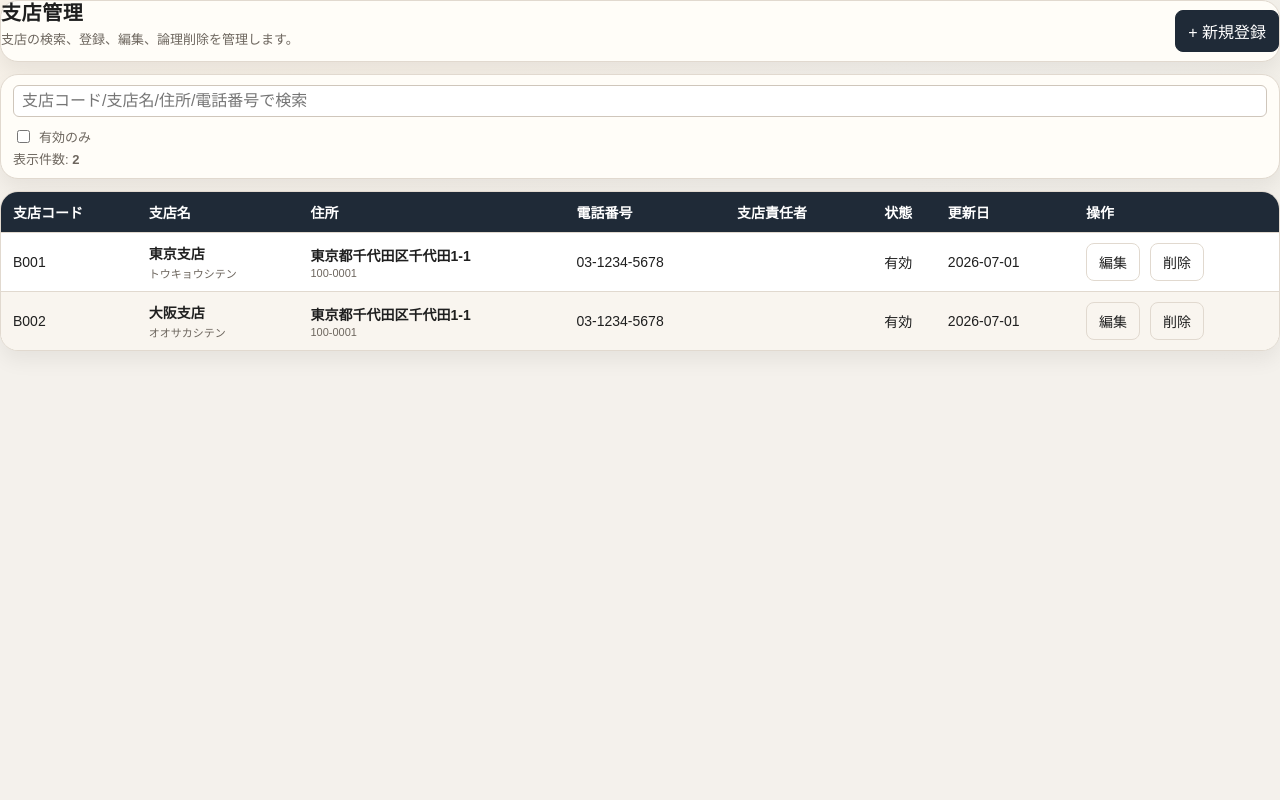
Test: 支店管理画面 › 支店論理削除ができる
Check: the text "東京支店" is shown, box left=149, top=246, right=205, bottom=262
Click the button "削除" in the row of "B001" at (1177, 262), box left=1150, top=243, right=1204, bottom=281
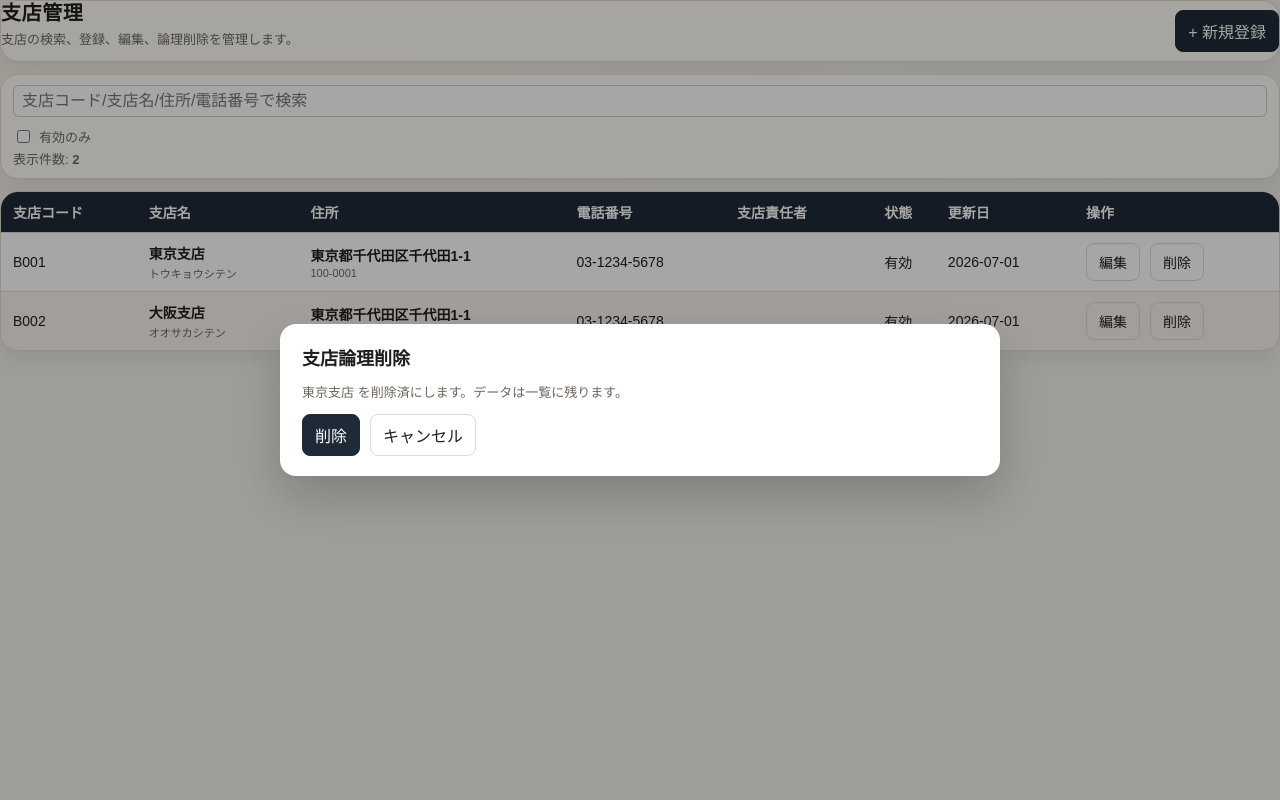
Check: the heading "支店論理削除" is shown, box left=302, top=349, right=410, bottom=369
Click the button "削除" at (331, 435), box left=302, top=414, right=360, bottom=456
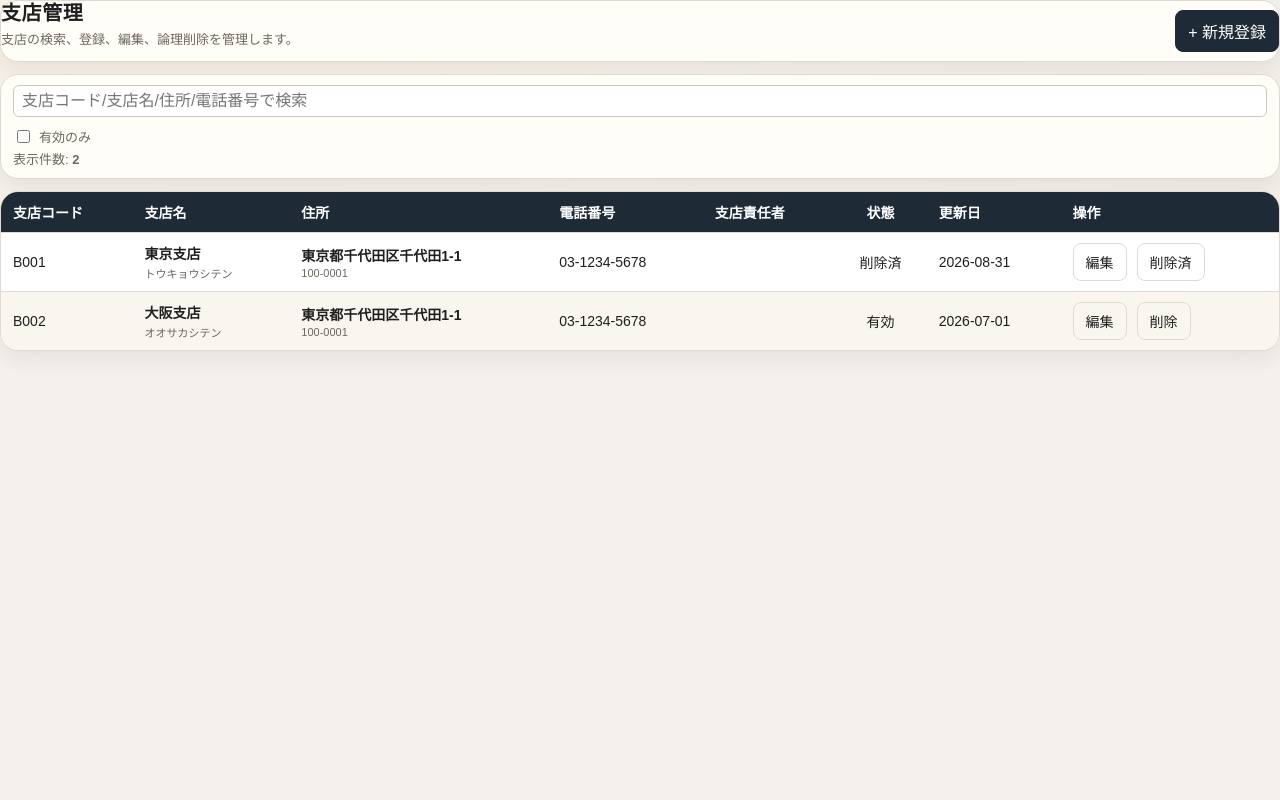
Check: the text "削除済" is shown, box left=834, top=232, right=927, bottom=292
